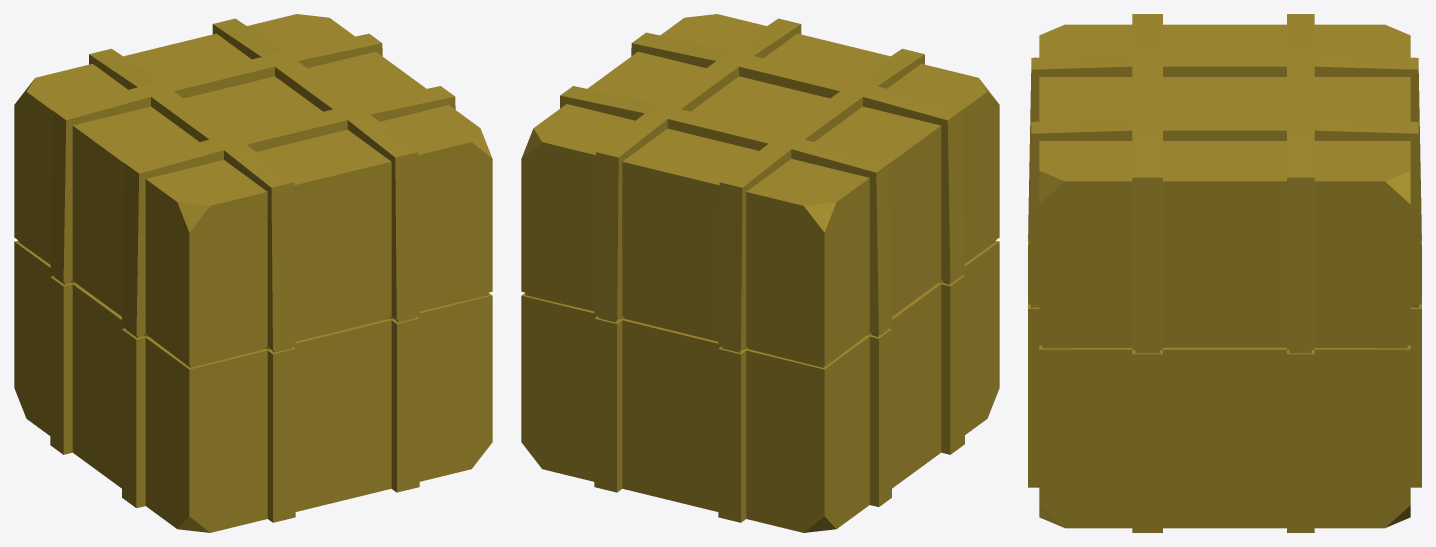
The model's file is ssGunCase.glb.
3 views of the same model, side by side, from view 1: azimuth 30°, elevation 25°; view 2: azimuth 150°, elevation 25°; view 3: azimuth 270°, elevation 25° (orthographic). The views are drawn at different scales.
Visible parts, largest first — view 1: Cube.001; view 2: Cube.001; view 3: Cube.001.
Part boxes in pixels (x1,y1,x2,y2): Cube.001: (14,14,492,532); Cube.001: (521,14,999,532); Cube.001: (1028,14,1421,532).
Bounding box in the file's own units: 3.99 × 3.99 × 3.99.
1 material, 1 textured.
